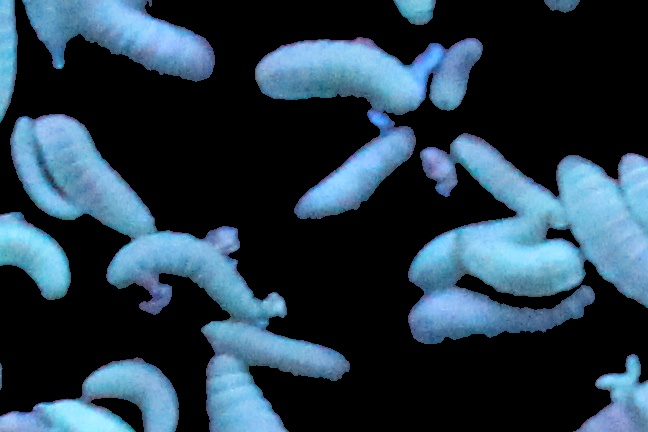larvae: (105, 228, 267, 323), (553, 155, 648, 307), (38, 120, 154, 233), (59, 1, 216, 82), (255, 38, 423, 113), (299, 127, 414, 231), (409, 213, 548, 293), (450, 133, 567, 228), (203, 321, 359, 386), (406, 294, 595, 347), (464, 233, 585, 297), (80, 360, 180, 432), (11, 117, 79, 220), (1, 215, 79, 302), (201, 357, 288, 432), (427, 38, 485, 113), (611, 154, 648, 232), (1, 1, 16, 139)
